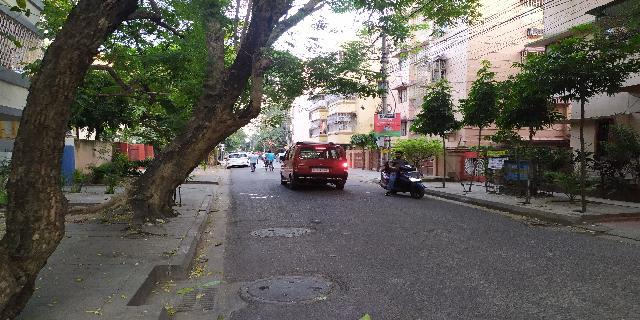Car: (279, 139, 352, 192), (224, 150, 252, 171)
Motorbike: (372, 147, 428, 200)
